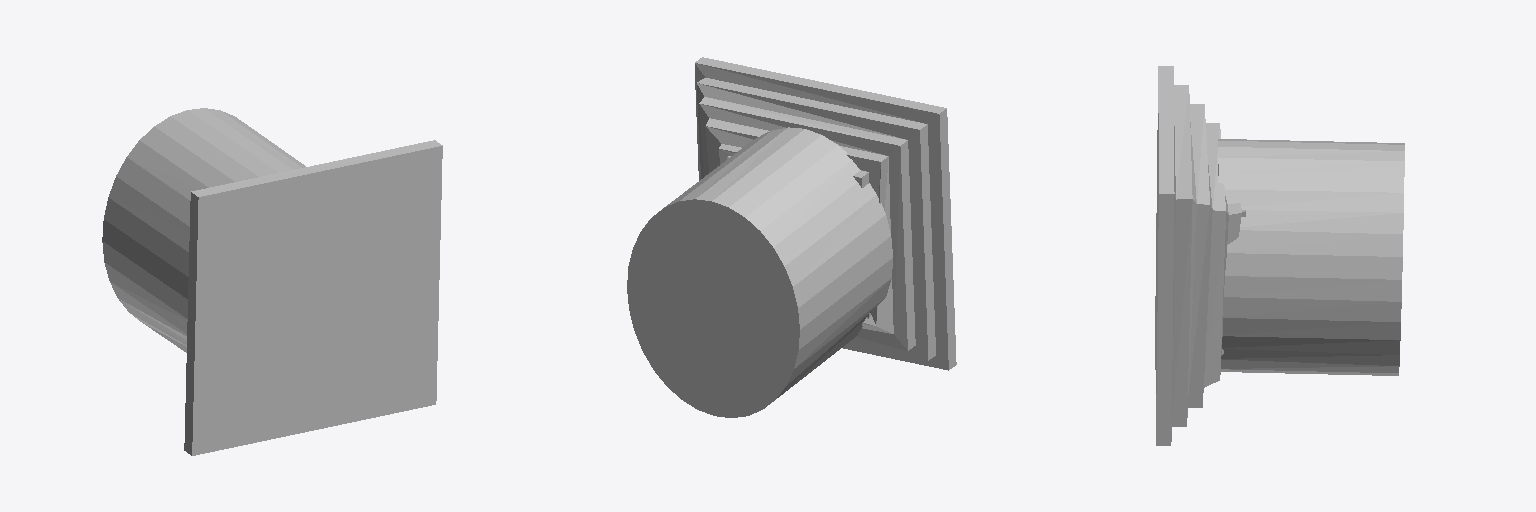
File: camera.obj
3 views of the same model, side by side, from view 1: azimuth 30°, elevation 25°; view 2: azimuth 150°, elevation 25°; view 3: azimuth 270°, elevation 25° (orthographic).
Parts seen in each view (by area): view 1: Цилиндр; view 2: Цилиндр; view 3: Цилиндр.
Part boxes in pixels (bbox=[...]): Цилиндр: bbox=[102, 108, 442, 455]; Цилиндр: bbox=[627, 57, 956, 417]; Цилиндр: bbox=[1155, 66, 1404, 445].
Bounding box in the file's own units: 0.7298 × 0.7295 × 0.6244.